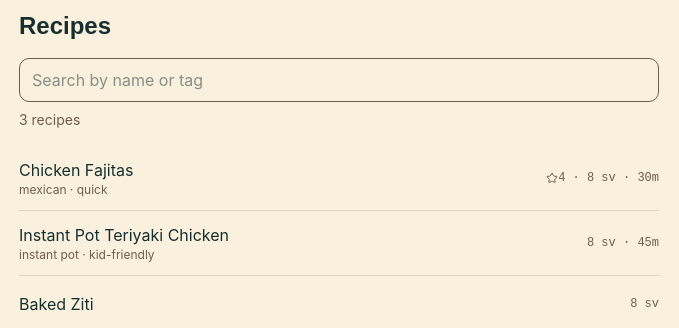
Test case: the recipe library › says so when nothing matches, with no verse over a search in progress
This screenshot has width=679, height=328.
Type "sushi" into the search field.
click(339, 80); type("sushi")  # box [19,58,659,102]
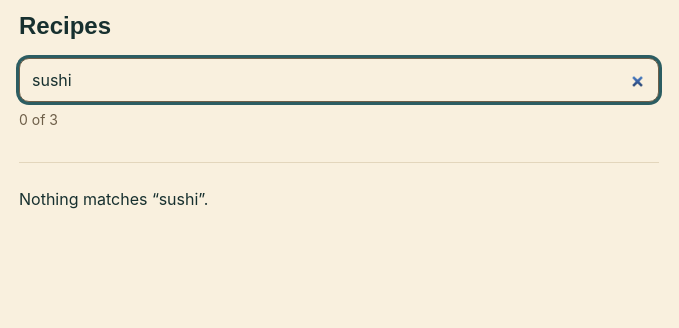
Expected: no links are shown
Expected: the text "Nothing matches “sushi”." is shown, [19,189,208,209]
